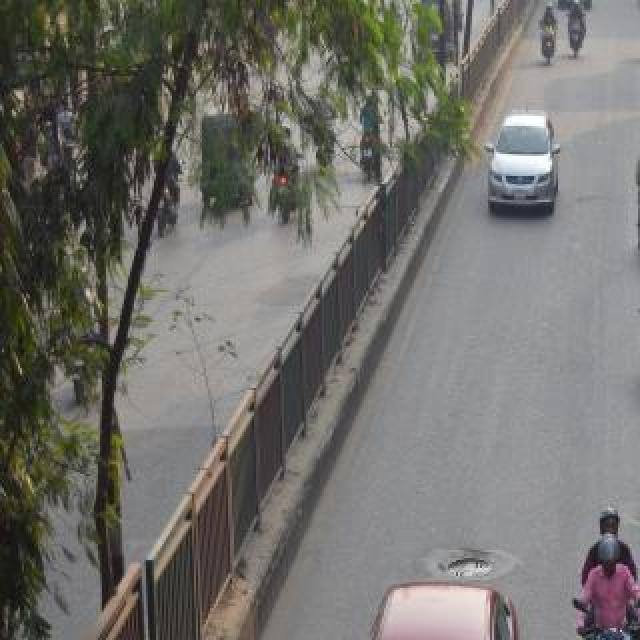car: (330, 558, 530, 640), (478, 102, 562, 222)
motorbike: (566, 490, 640, 640), (347, 80, 385, 188), (563, 4, 595, 72), (533, 0, 561, 68)
